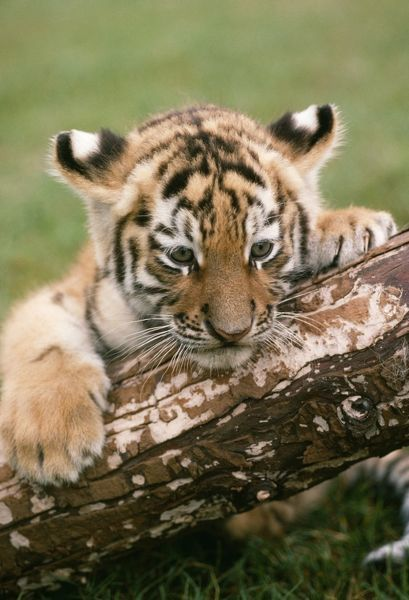Tigre: (12, 91, 395, 447)
